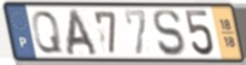5: (183, 9, 216, 58)
7: (123, 8, 149, 57), (92, 10, 118, 56)
A: (65, 8, 100, 57)
Q: (30, 9, 65, 55)
S: (151, 8, 187, 58)
